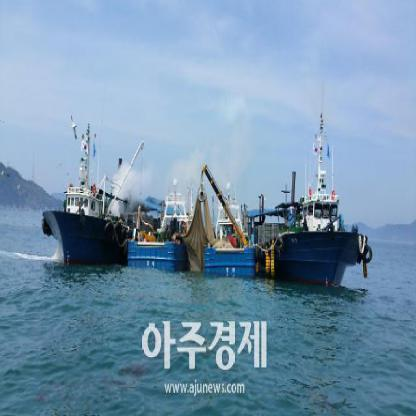fish-b: (255, 78, 374, 298), (37, 108, 148, 278)
